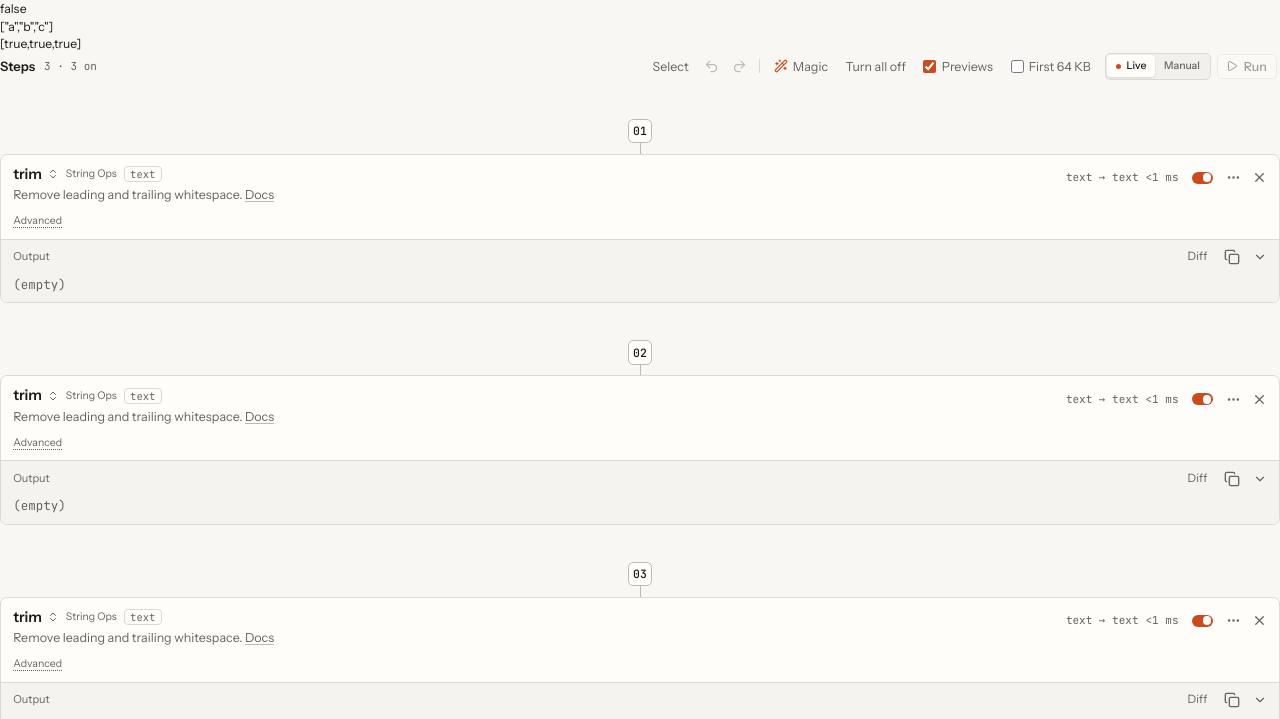
<StepList /> selection mode › deletes the selected steps
Click the button "Select": {"x": 671, "y": 66} [646,54,696,78]
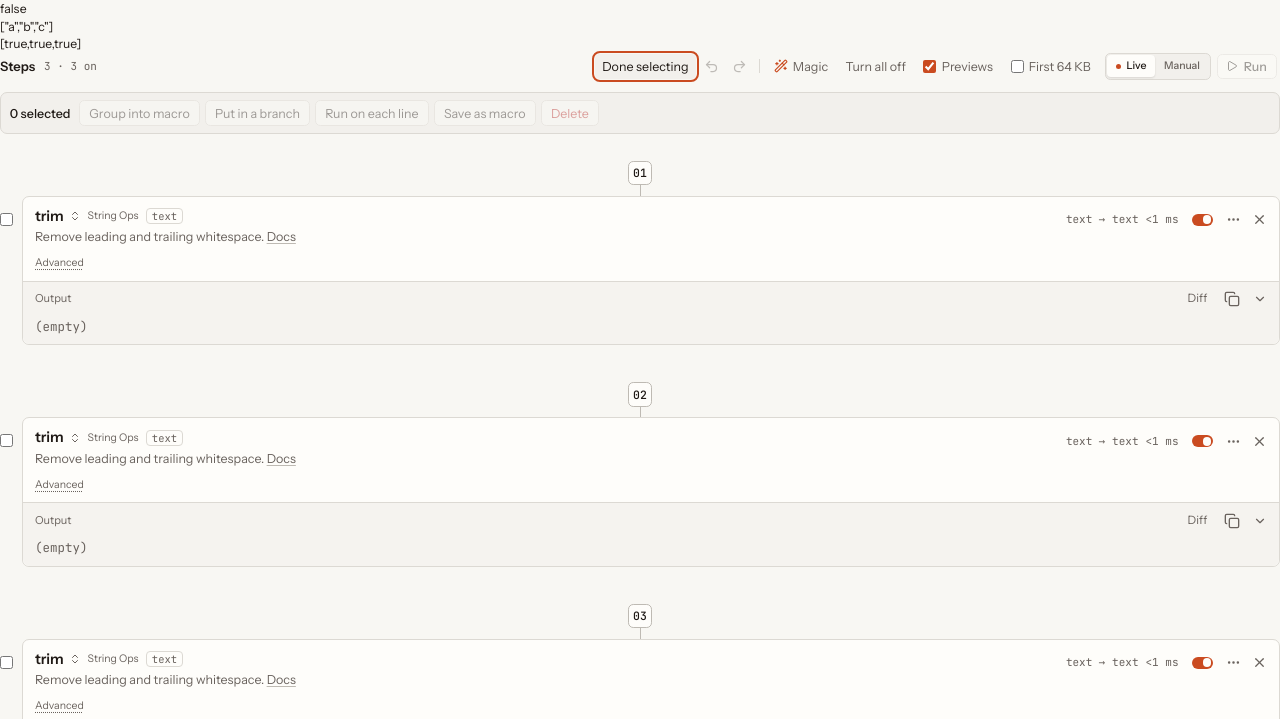
Click the checkbox named "select step 1": {"x": 6, "y": 219} [0,212,13,226]
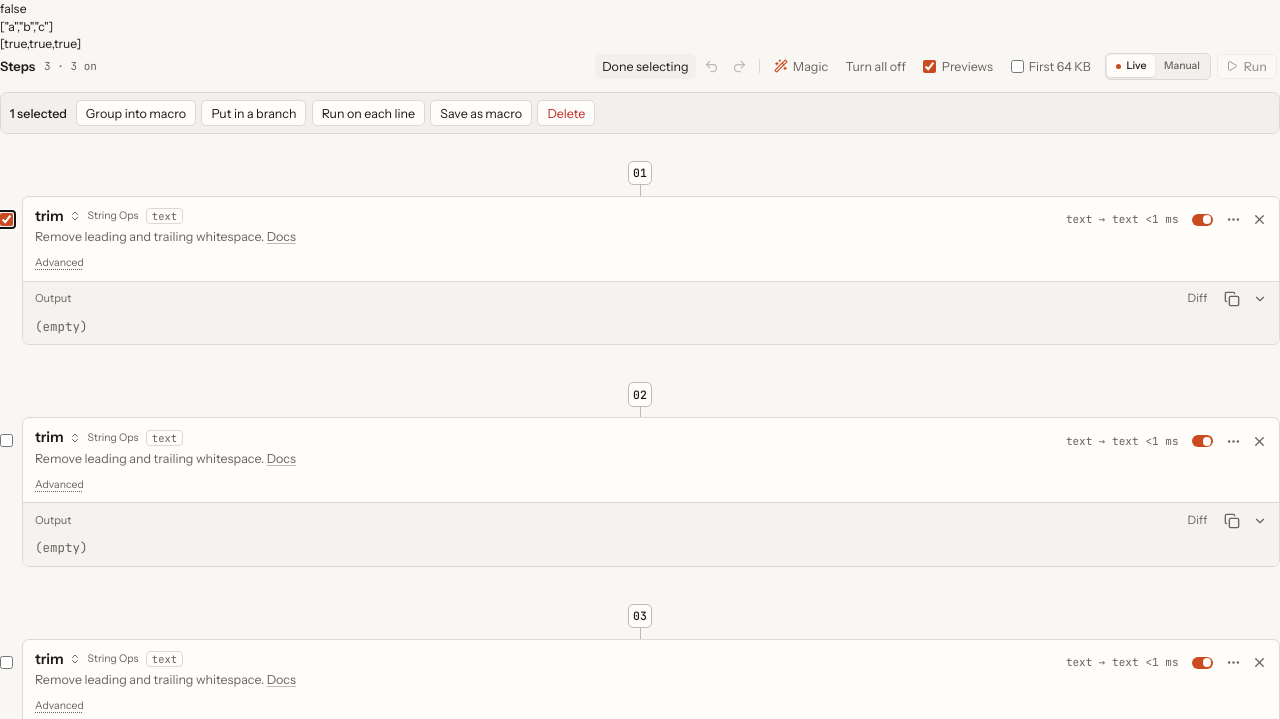
Click the checkbox named "select step 2": {"x": 6, "y": 440} [0,434,13,447]
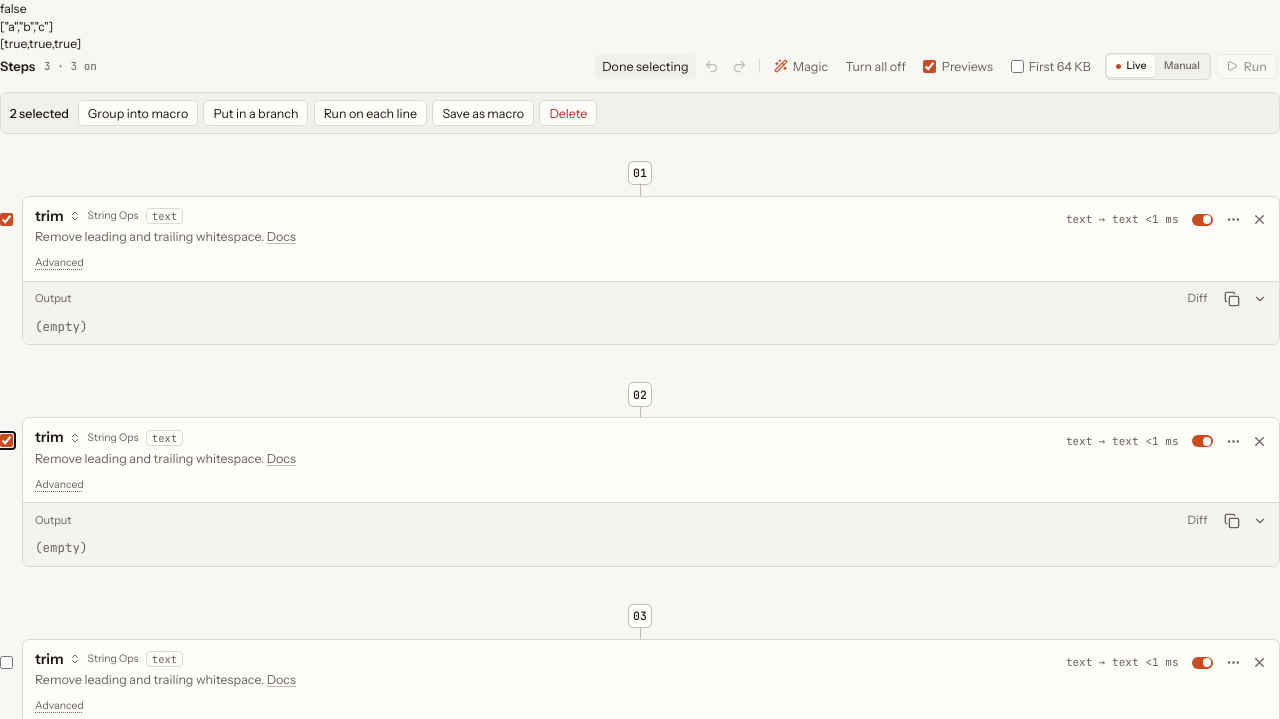
Click the button "Delete": {"x": 568, "y": 113} [539,100,597,126]
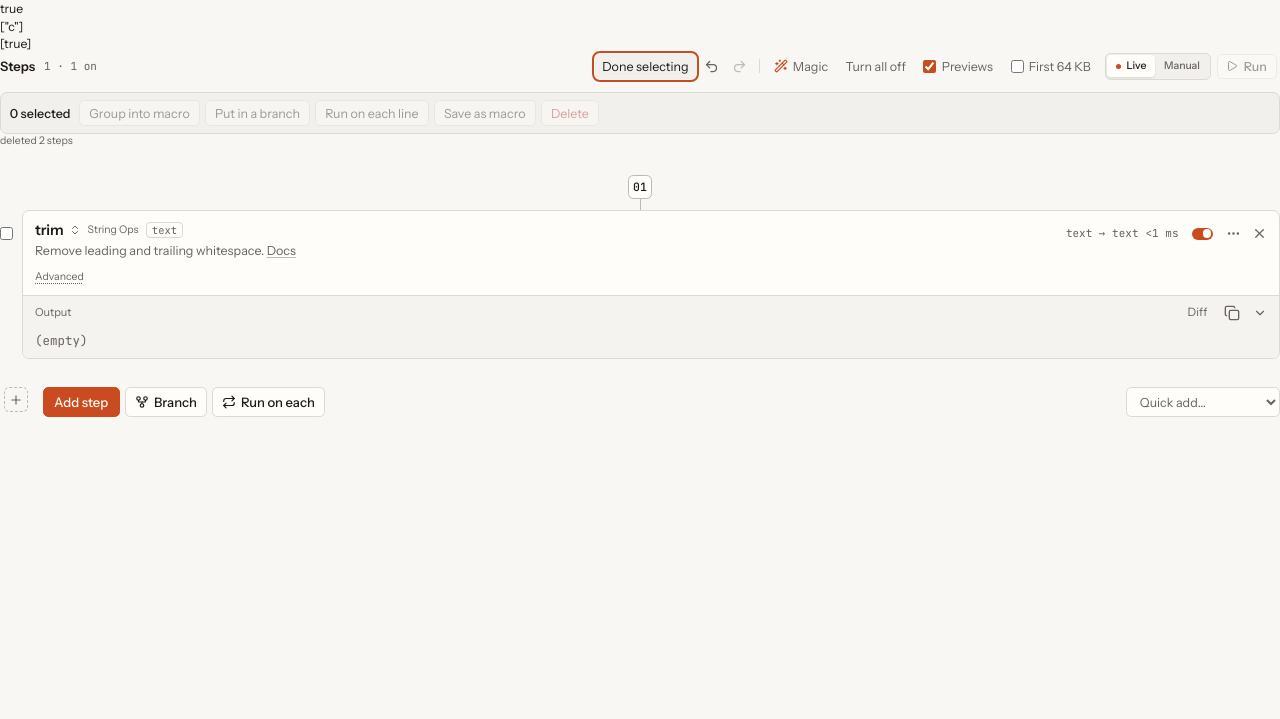
Expected: the text "deleted 2 steps" is shown, [0,134,73,147]
Expected: the button "Delete" is disabled, [541,100,599,126]
